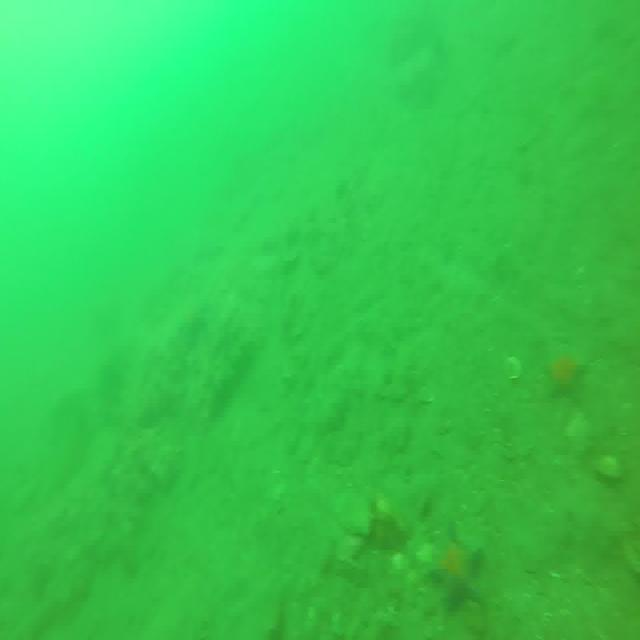starfish: (428, 516, 484, 614), (544, 344, 586, 401)
